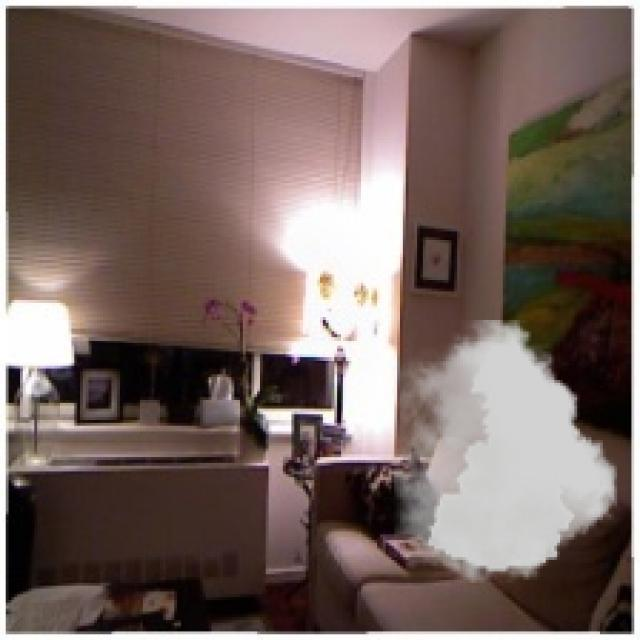Smoke: (394, 320, 617, 583)
